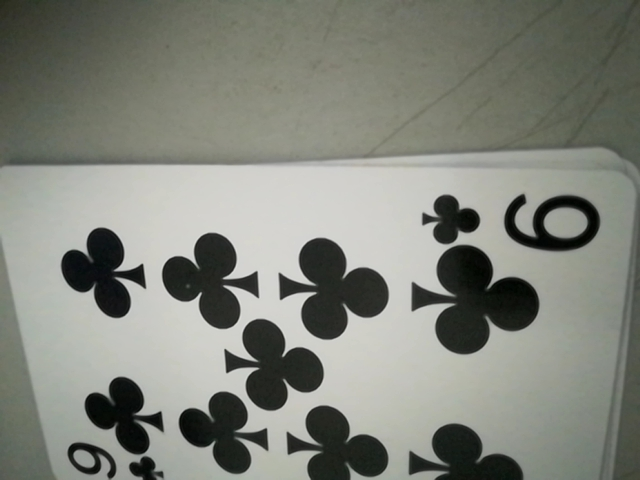mh 9: (420, 185, 599, 251), (61, 438, 161, 480)
